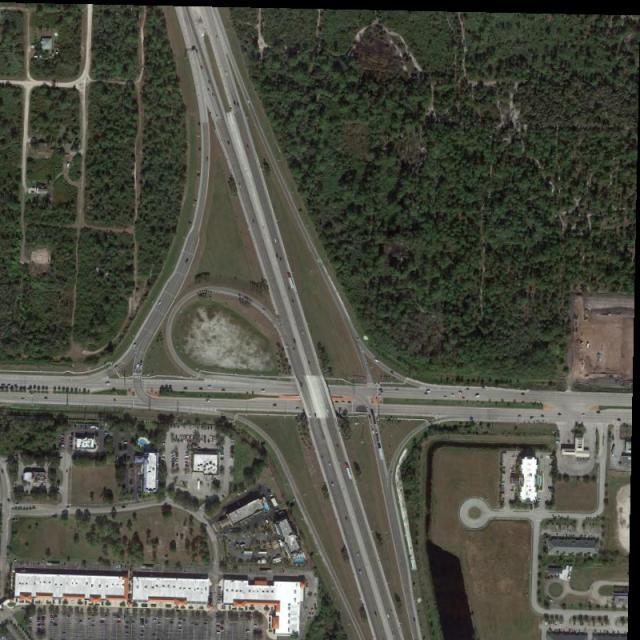vehicle: (344, 463, 354, 480), (286, 274, 295, 290)
